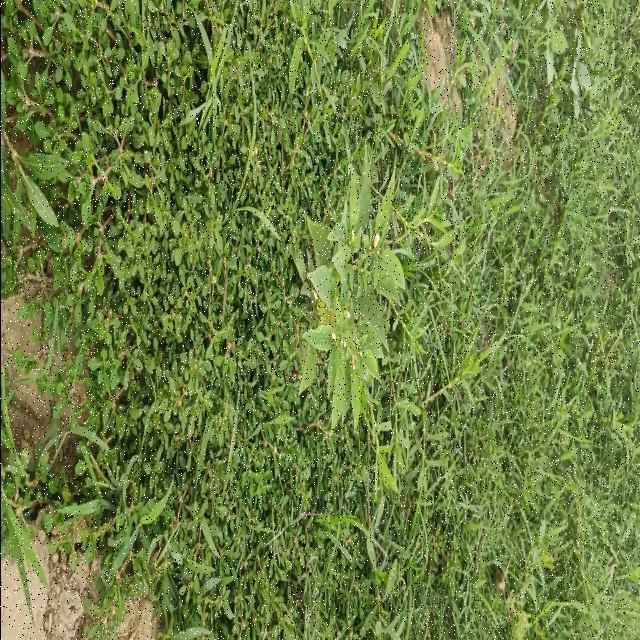plant: (297, 152, 404, 430)
